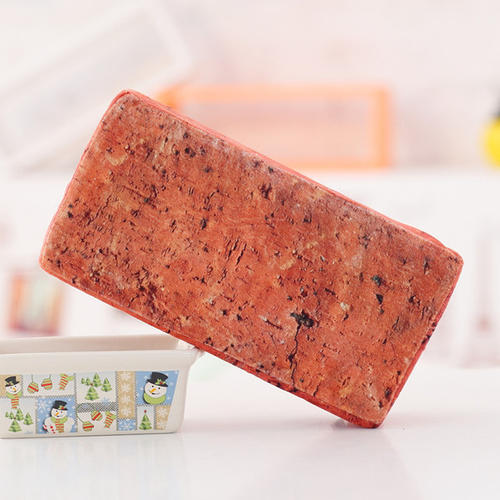brick: (36, 89, 463, 431)
